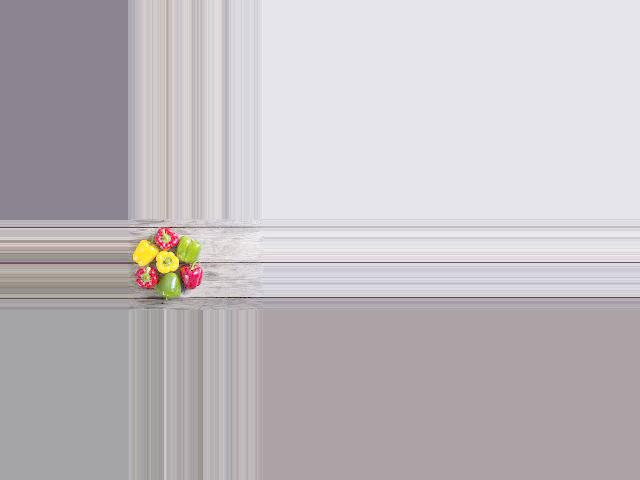bell_pepper: (130, 261, 158, 288)
